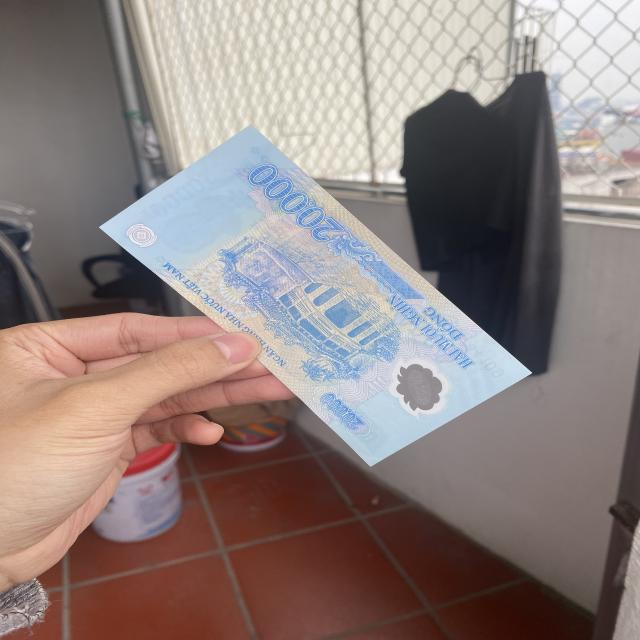20 000 VND: (97, 124, 534, 468)
